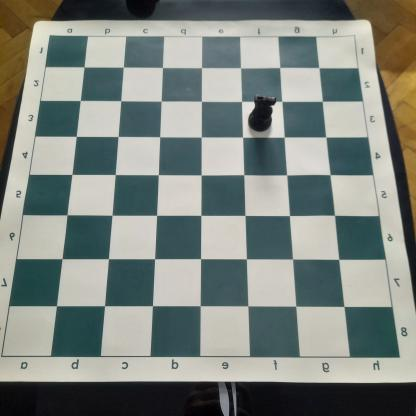black-knight: (244, 94, 278, 133)
